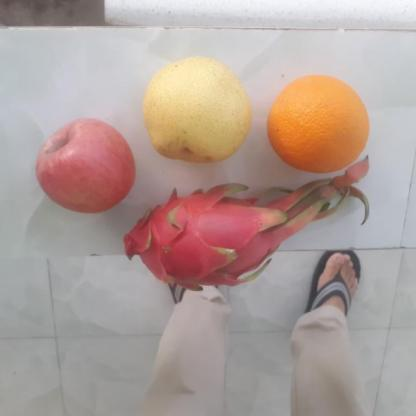apple: (32, 118, 135, 212)
orange: (265, 74, 373, 173)
pear: (137, 58, 254, 162)
pitaya: (115, 185, 277, 292)
